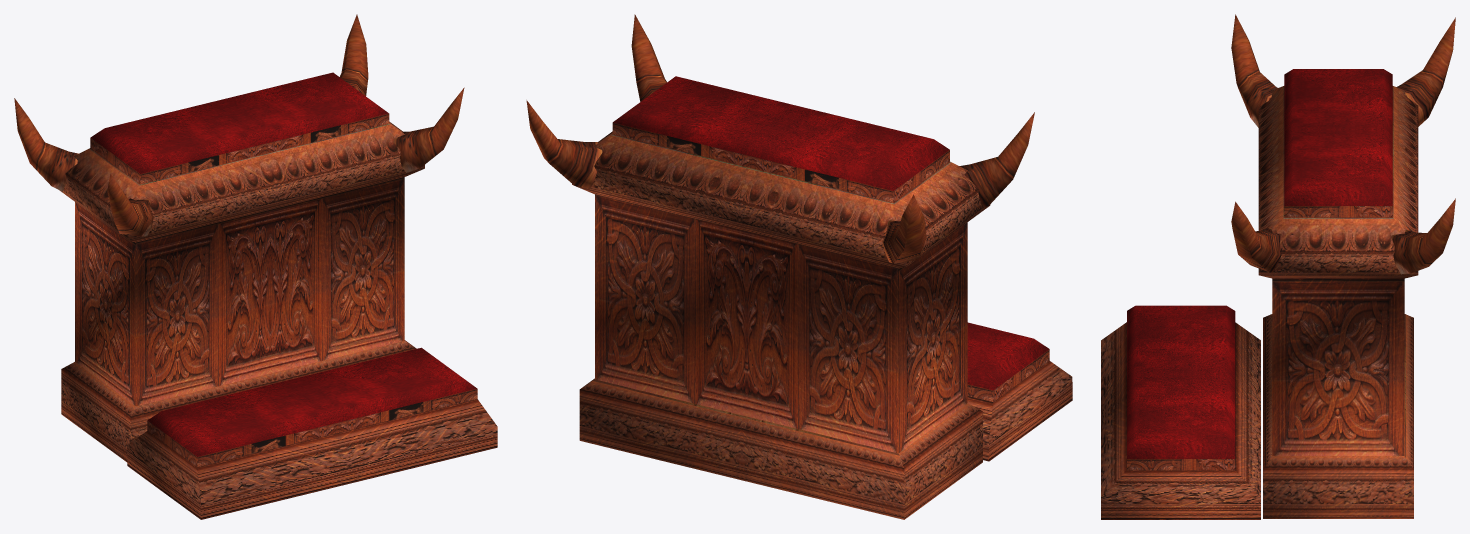
Rendered from Altar.fbx.
The picture shows the model from 3 angles, left to right: view 1: azimuth 30°, elevation 25°; view 2: azimuth 150°, elevation 25°; view 3: azimuth 270°, elevation 25°; orthographic projection. The views are drawn at different scales.
Parts seen in each view (by area): view 1: Altar; view 2: Altar; view 3: Altar.
Part boxes in pixels (x1=…): Altar: x1=14, y1=14, x2=497, y2=519; Altar: x1=526, y1=14, x2=1072, y2=519; Altar: x1=1101, y1=14, x2=1455, y2=519.
Bounding box in the file's own units: 188 × 157 × 150.
